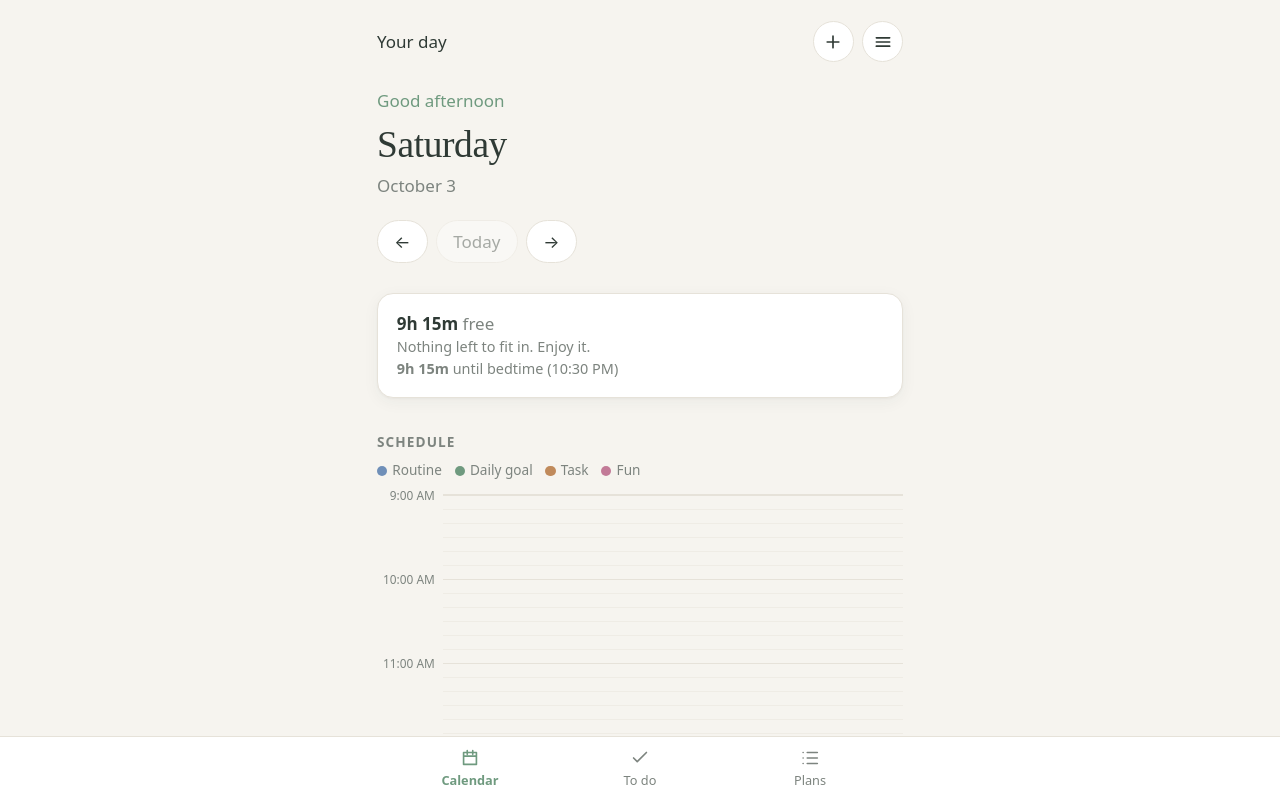
Test: Planner day view › moves between days
The image size is (1280, 800).
Expected: the heading "Saturday" is shown, [377,124,507,165]
Click the button named "Next day" at (551, 242), box [526,220,576,263]
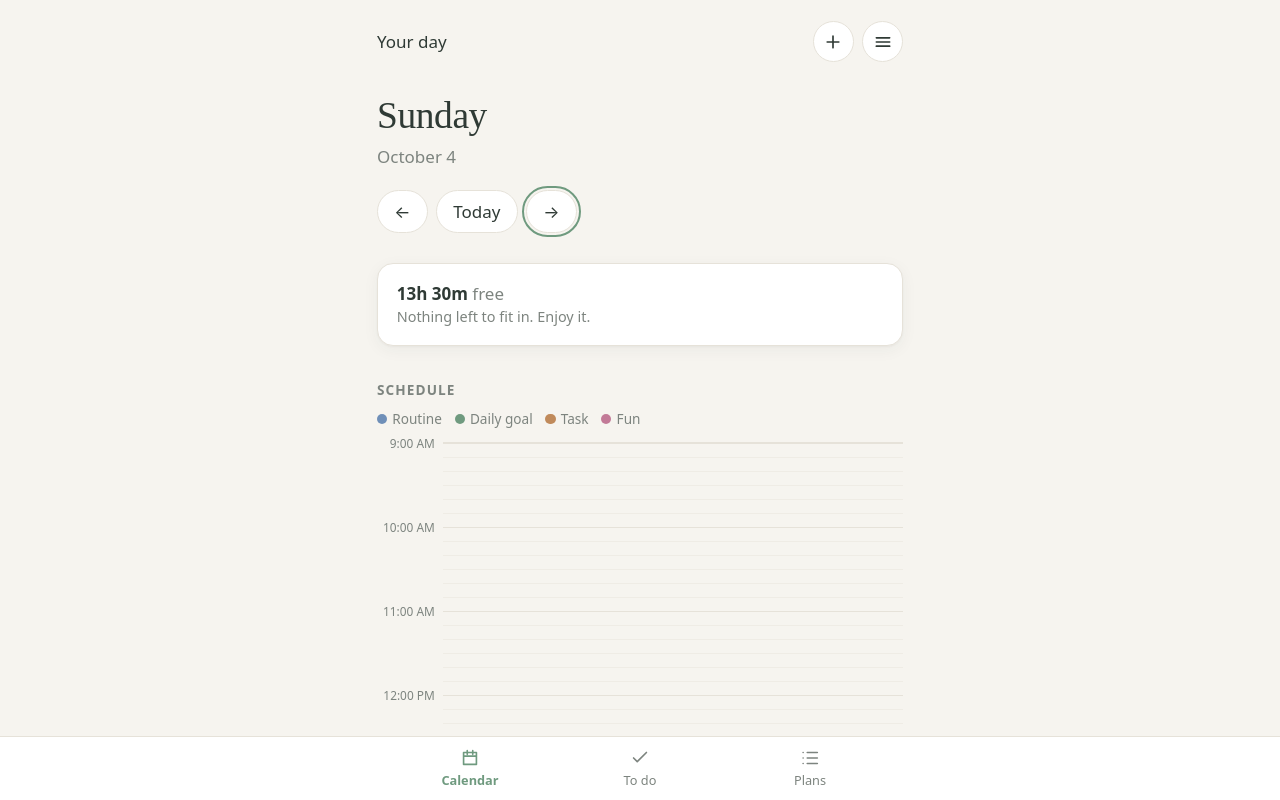
Click the button named "Next day" at (551, 212), box [526,190,576,233]
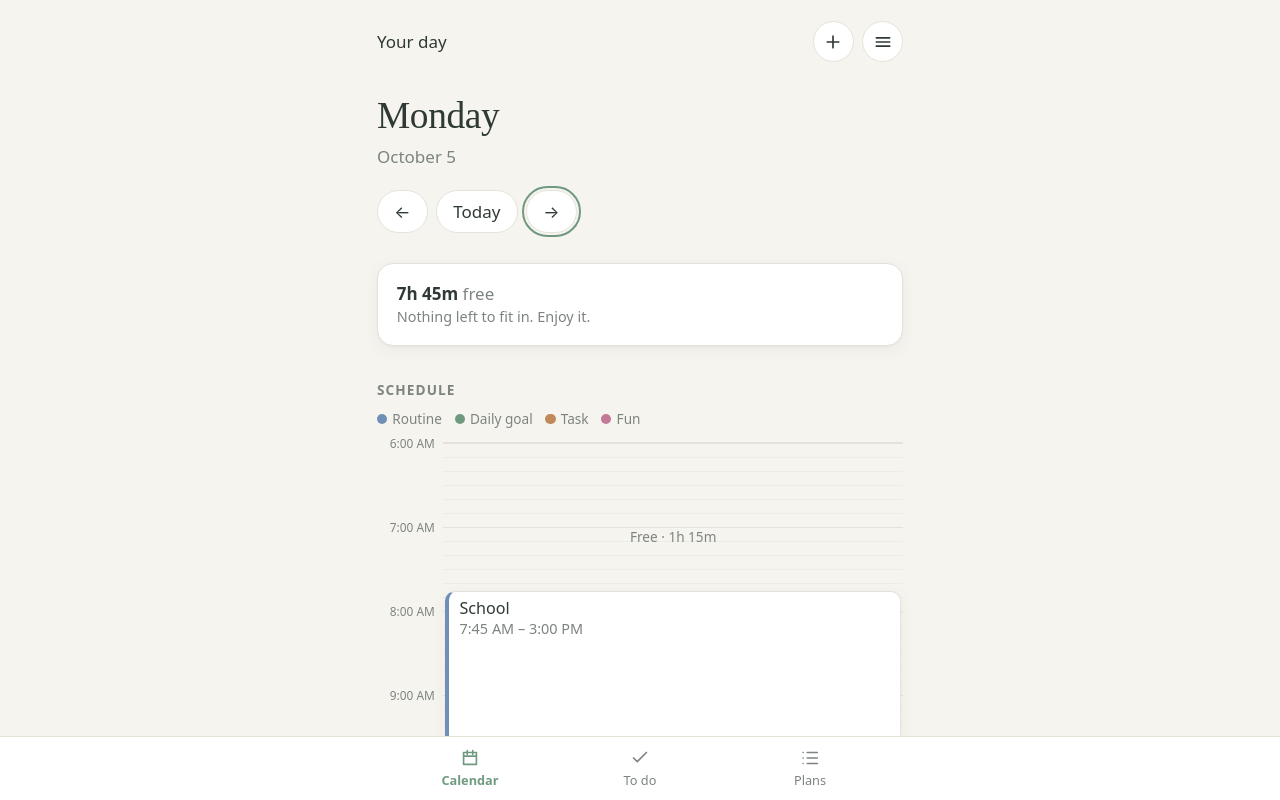
Now the heading "Monday" is shown, box [377,94,499,136]
Now the text "School" is shown, box [460,598,510,618]
Click the button "Today" at (477, 212), box [436,190,518,233]
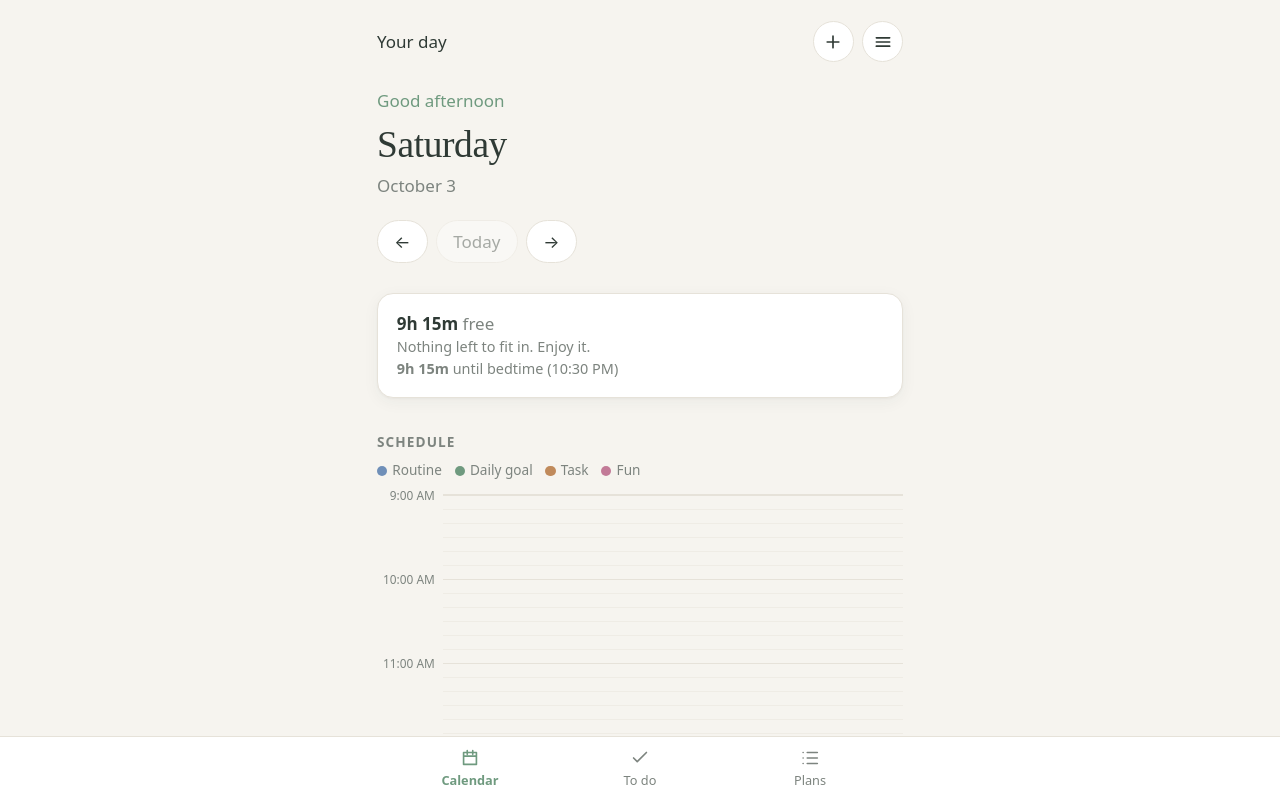
Now the heading "Saturday" is shown, box [377,124,507,165]
